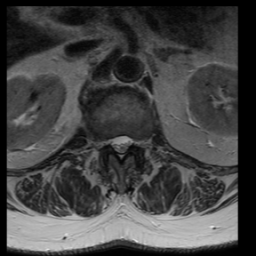CCS_normal: (117, 128, 125, 164)
LFS_normal: (133, 132, 141, 153)
LLS_normal: (125, 129, 133, 153)
RFS_stenosis: (102, 129, 109, 154)
RLS_normal: (109, 129, 117, 155)
